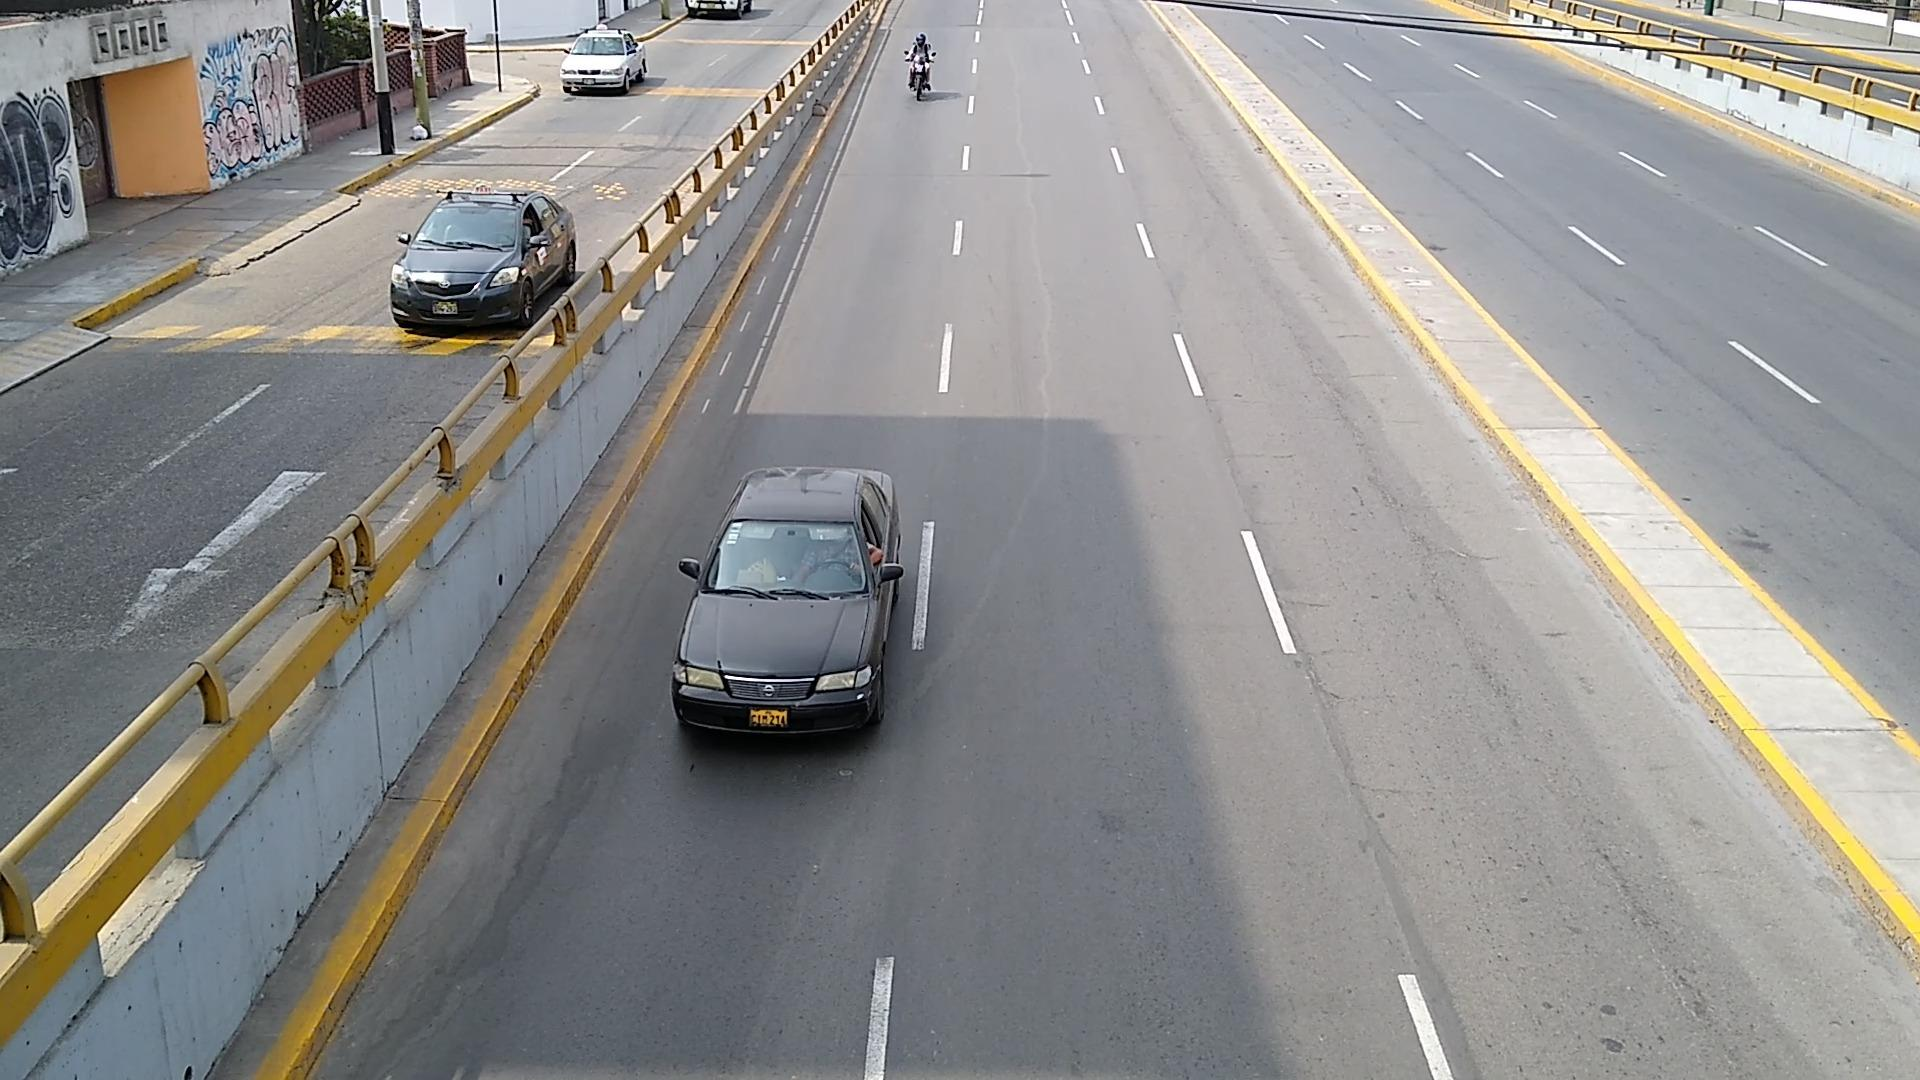car: (671, 468, 903, 735), (390, 191, 578, 330), (563, 30, 649, 94)
motorcyclist: (907, 34, 934, 102)
